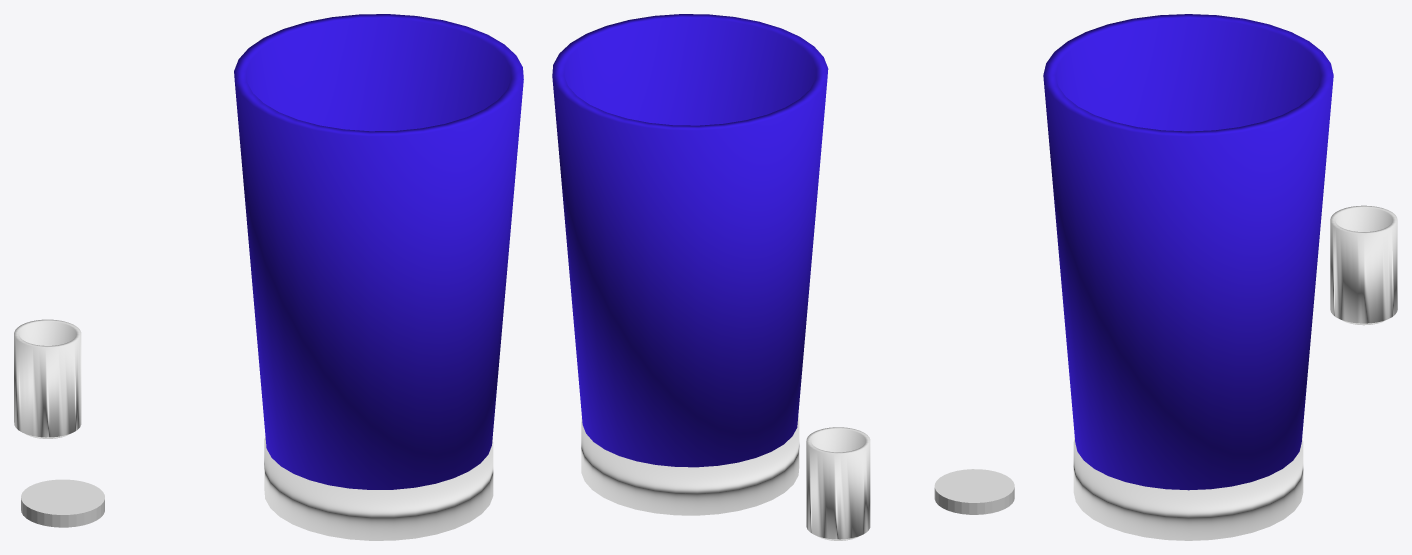
The model's file is copo azul.glb.
3 renders of one model, left to right at view 1: azimuth 30°, elevation 25°; view 2: azimuth 150°, elevation 25°; view 3: azimuth 270°, elevation 25°, orthographic. The views are drawn at different scales.
Visible parts, largest first — view 1: Cylinder.003, Cylinder.001, Cylinder, Cylinder.002; view 2: Cylinder.003, Cylinder.001, Cylinder, Cylinder.002; view 3: Cylinder.003, Cylinder.001, Cylinder.
Boxes of the visible parts, x1=… form: Cylinder.003: x1=234, y1=14, x2=523, y2=489; Cylinder.001: x1=264, y1=436, x2=493, y2=540; Cylinder: x1=14, y1=319, x2=81, y2=438; Cylinder.002: x1=21, y1=479, x2=104, y2=527; Cylinder.003: x1=552, y1=14, x2=828, y2=467; Cylinder.001: x1=581, y1=417, x2=799, y2=515; Cylinder: x1=806, y1=427, x2=870, y2=540; Cylinder.002: x1=934, y1=469, x2=1014, y2=514; Cylinder.003: x1=1043, y1=14, x2=1333, y2=490; Cylinder.001: x1=1073, y1=438, x2=1303, y2=540; Cylinder: x1=1330, y1=205, x2=1397, y2=325.
Size of the model in its own units: 15.24 by 12.94 by 9.96.
